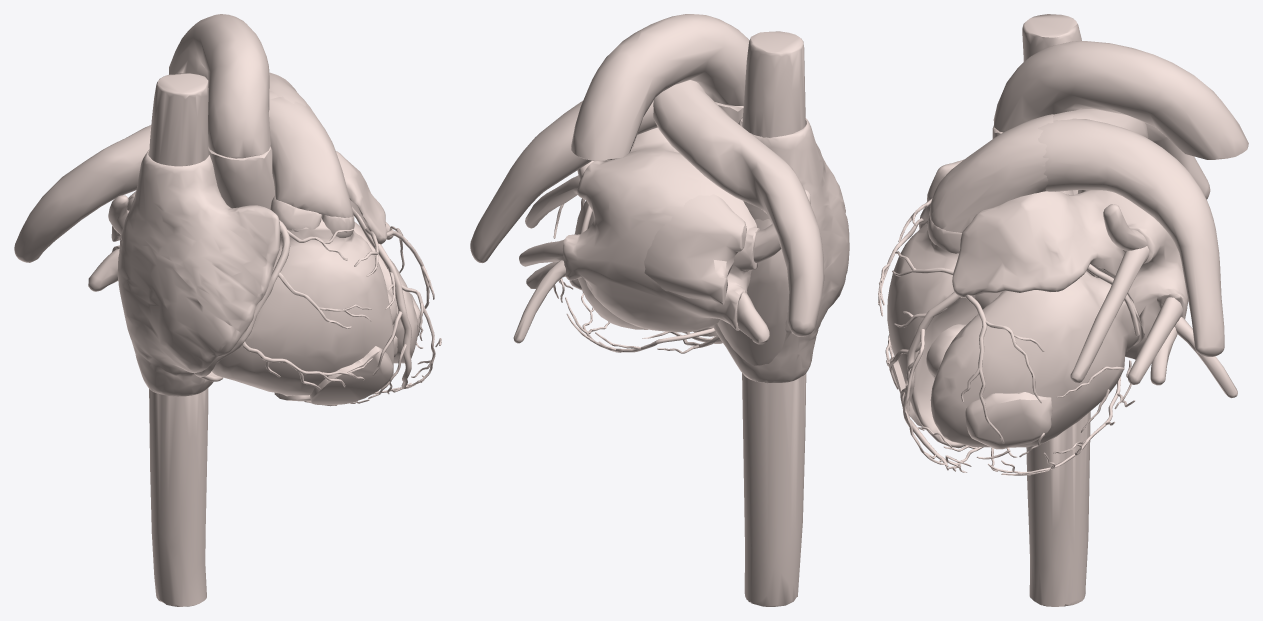
The model's file is heart.glb.
3 views of the same model, side by side, from view 1: azimuth 30°, elevation 25°; view 2: azimuth 150°, elevation 25°; view 3: azimuth 270°, elevation 25° (orthographic). The views are drawn at different scales.
Visible parts, largest first — view 1: Right atrium, Right ventricle, Vena cava, Pulmonary artery, Aorta, Coronary arteries, Left atrium, Left ventricle, Semilunar valves, Pulmonary vein; view 2: Left atrium, Pulmonary artery, Vena cava, Aorta, Right atrium, Pulmonary vein, Coronary arteries, Left ventricle; view 3: Pulmonary artery, Left ventricle, Left atrium, Aorta, Vena cava, Right ventricle, Coronary arteries, Pulmonary vein, Semilunar valves.
Boxes of the visible parts, x1,y1,x2,y2 form: Right atrium: [117, 150, 280, 396]; Right ventricle: [211, 218, 394, 405]; Vena cava: [149, 73, 208, 606]; Pulmonary artery: [14, 72, 353, 262]; Aorta: [169, 14, 274, 209]; Coronary arteries: [194, 207, 441, 406]; Left atrium: [111, 151, 387, 251]; Left ventricle: [354, 222, 420, 363]; Semilunar valves: [270, 196, 354, 237]; Pulmonary vein: [88, 195, 393, 291]; Left atrium: [562, 127, 759, 332]; Pulmonary artery: [470, 80, 824, 336]; Vena cava: [742, 31, 806, 606]; Aorta: [571, 14, 749, 160]; Right atrium: [713, 117, 849, 383]; Pulmonary vein: [513, 161, 810, 344]; Coronary arteries: [551, 198, 722, 353]; Left ventricle: [569, 201, 648, 329]; Pulmonary artery: [930, 108, 1224, 356]; Left ventricle: [926, 271, 1139, 449]; Left atrium: [952, 190, 1188, 359]; Aorta: [992, 41, 1248, 195]; Vena cava: [1022, 14, 1090, 606]; Right ventricle: [887, 224, 1001, 448]; Coronary arteries: [878, 198, 1139, 475]; Pulmonary vein: [1070, 204, 1237, 398]; Semilunar valves: [927, 211, 961, 253].
Size of the model in its own units: 0.6336 by 0.9999 by 0.5702.
